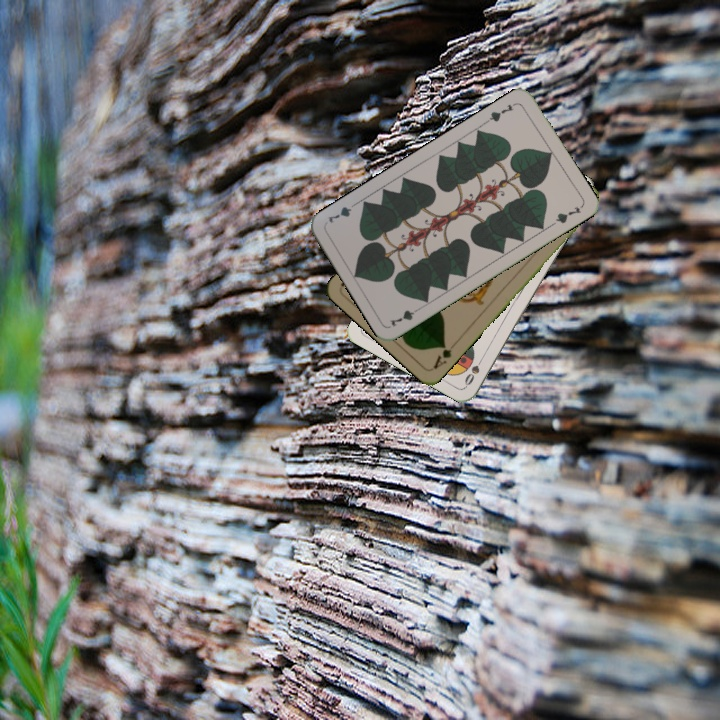G7: (386, 303, 424, 329), (482, 99, 519, 125)
GA: (429, 337, 460, 371)
SO: (460, 351, 487, 388)
